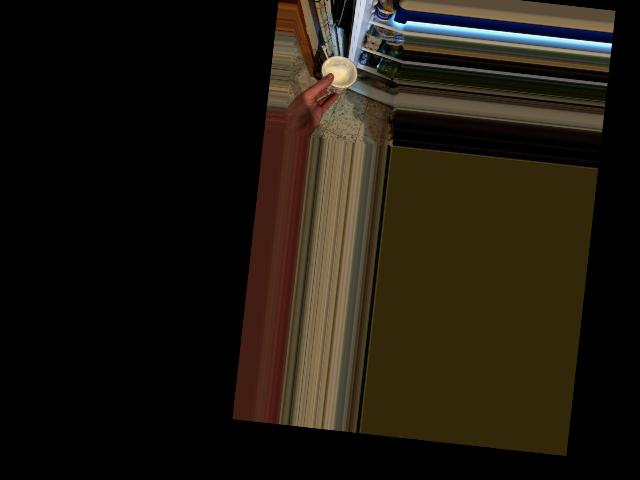cotage: (318, 56, 349, 94)
